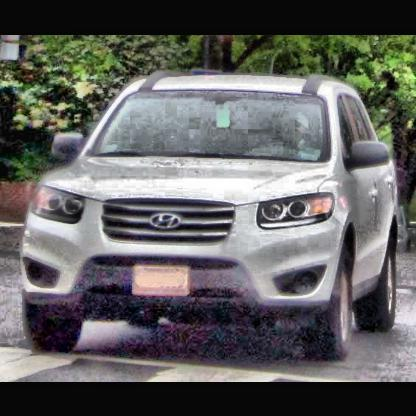Hyundai Santa Fe SUV 2012: (14, 54, 413, 365)
